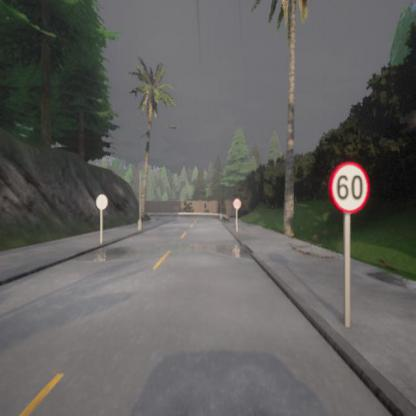traffic_sign_60: (328, 161, 370, 213)
